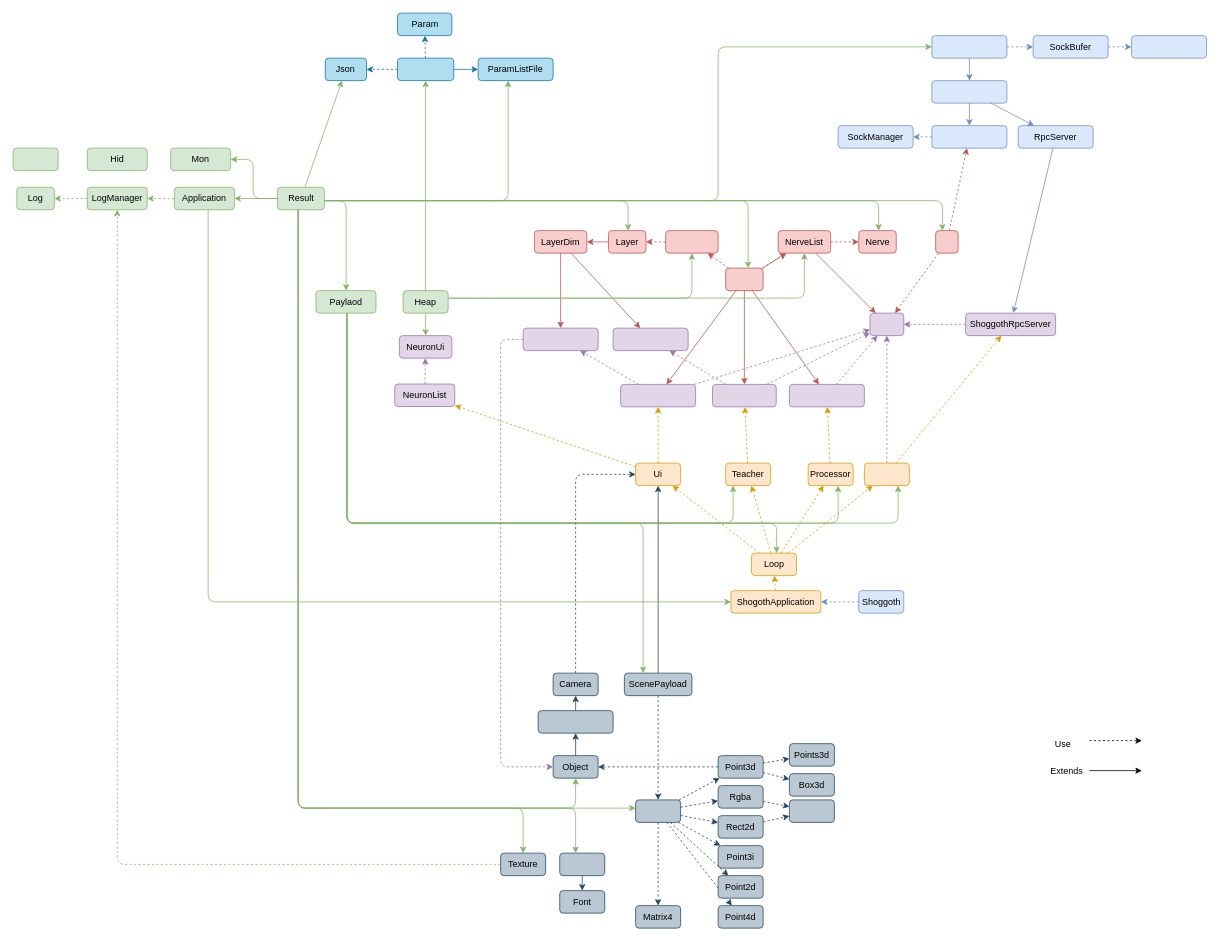
The diagram is 1220 pixels wide and 941 high, and some of its shapes have lost their labels. The shapes that lost their labels are listed below. From the top down, each one's box as (x1, y1, x2, y2) in pixels, then its label:
(931, 35, 1007, 58): Sock
(1131, 35, 1207, 58): SockBuferItem
(397, 57, 454, 81): ParamList
(931, 80, 1007, 103): SockRpc
(931, 125, 1007, 148): RpcClient
(12, 147, 58, 171): Moment
(665, 230, 718, 253): LayerList
(935, 230, 958, 253): Io
(725, 267, 763, 291): Limb
(522, 327, 598, 351): LayerUi
(612, 327, 688, 351): LayerTeacher
(869, 312, 904, 336): Net
(620, 384, 696, 407): LimbUi
(712, 384, 776, 407): LimbTeacher
(789, 384, 864, 407): LimbProcessor
(864, 462, 909, 486): Server
(537, 710, 613, 733): TemporalObject
(635, 799, 681, 822): Scene
(789, 799, 834, 822): Chart2d
(559, 852, 605, 876): Bitmap
